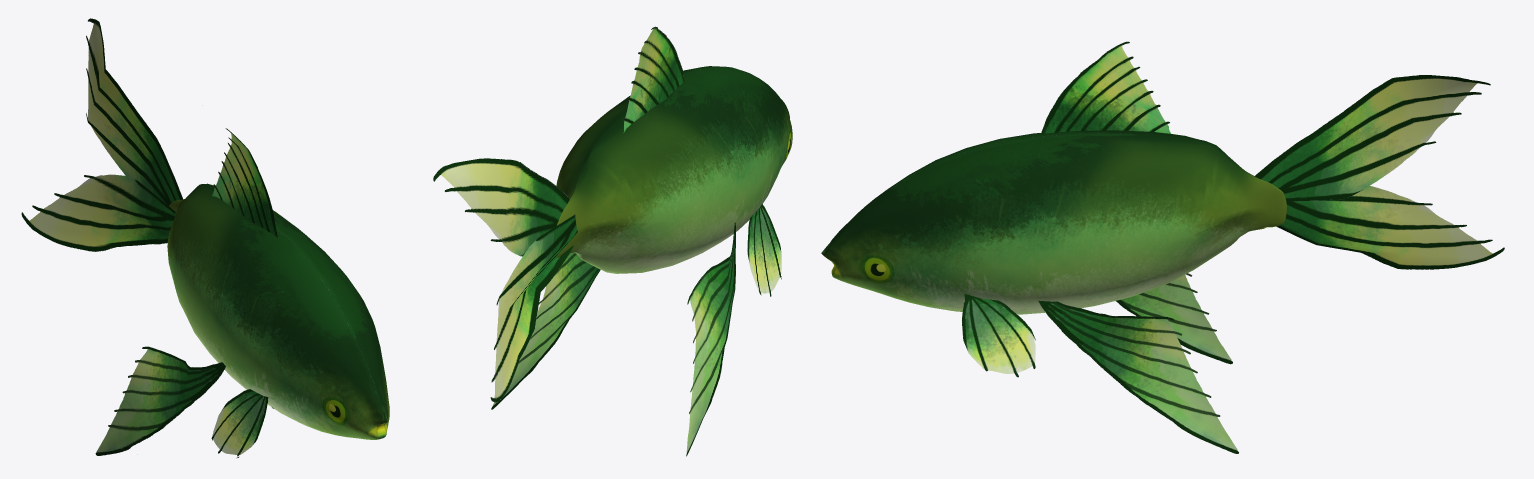
Rendered from Fish.fbx.
The picture shows the model from 3 angles, left to right: view 1: azimuth 30°, elevation 25°; view 2: azimuth 150°, elevation 25°; view 3: azimuth 270°, elevation 25°; orthographic projection. The views are drawn at different scales.
Parts seen in each view (by area): view 1: Fish1; view 2: Fish1; view 3: Fish1.
Part boxes in pixels (x1=…): Fish1: x1=21, y1=18, x2=389, y2=458; Fish1: x1=433, y1=26, x2=792, y2=456; Fish1: x1=821, y1=41, x2=1504, y2=453.
Bounding box in the file's own units: 0.00128 × 0.0024 × 0.00389.
